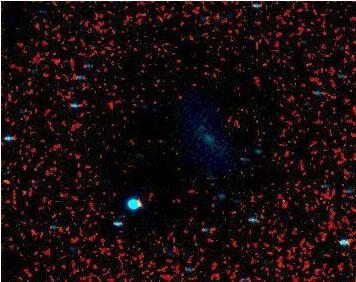star: (0, 168, 21, 198)
